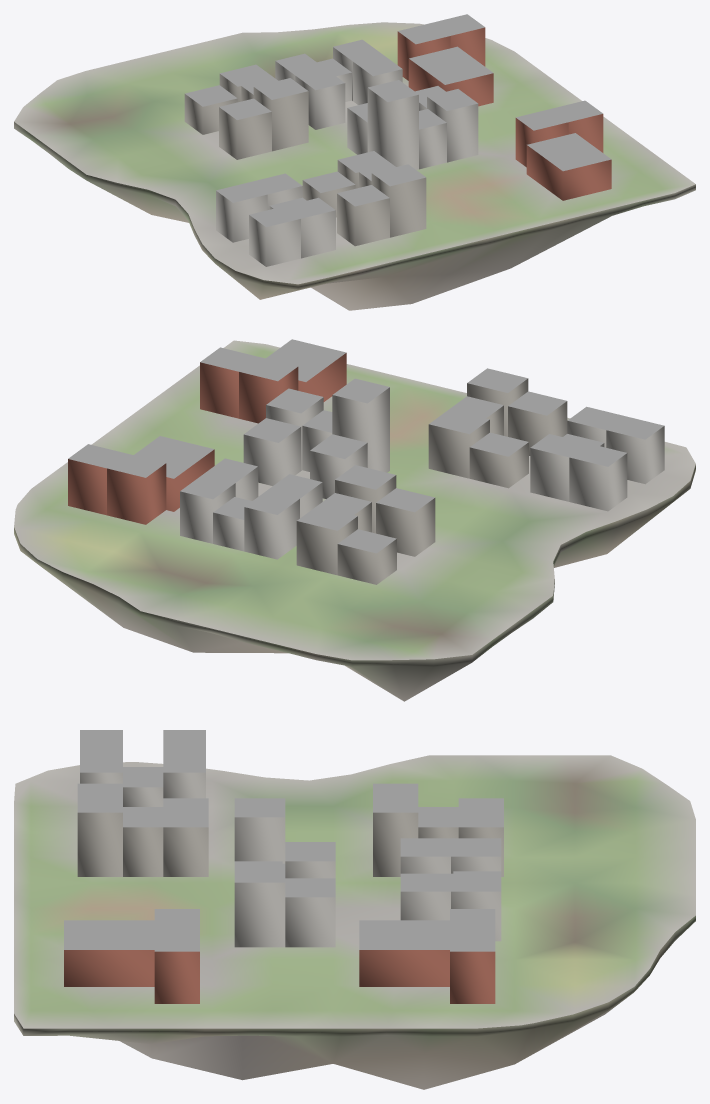
File: SKY-080.lod1.glb
3 renders of one model, top to bottom at view 1: azimuth 30°, elevation 25°; view 2: azimuth 150°, elevation 25°; view 3: azimuth 270°, elevation 25°, orthographic. The views are drawn at different scales.
Parts seen in each view (by area): view 1: deck, buildings, rock; view 2: deck, buildings, rock; view 3: deck, buildings, rock.
Boxes of the visible parts, x1,y1,x2,y2 form: deck: (14, 22, 695, 284); buildings: (184, 14, 611, 266); rock: (14, 122, 695, 310); deck: (14, 340, 695, 660); buildings: (68, 339, 664, 584); rock: (14, 464, 695, 701); deck: (14, 755, 695, 1028); buildings: (64, 730, 503, 1003); rock: (14, 915, 695, 1089).
Size of the model in its own units: 128 by 57.76 by 135.
